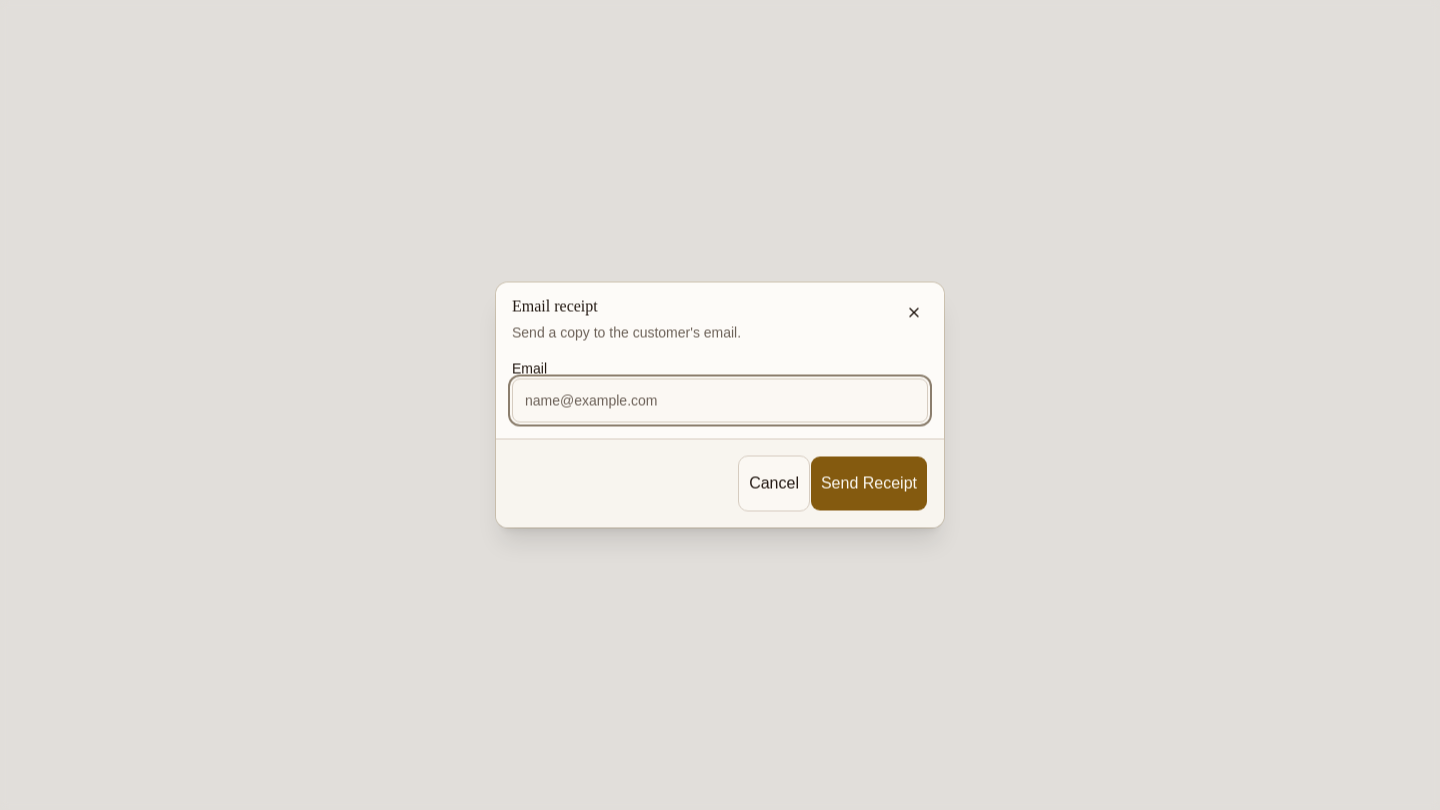
Test case: EmailReceiptDialog › disables inputs while pending
Type "ok@example.com" into the field labelled "Email" at (720, 400), box [512,378,928,422]
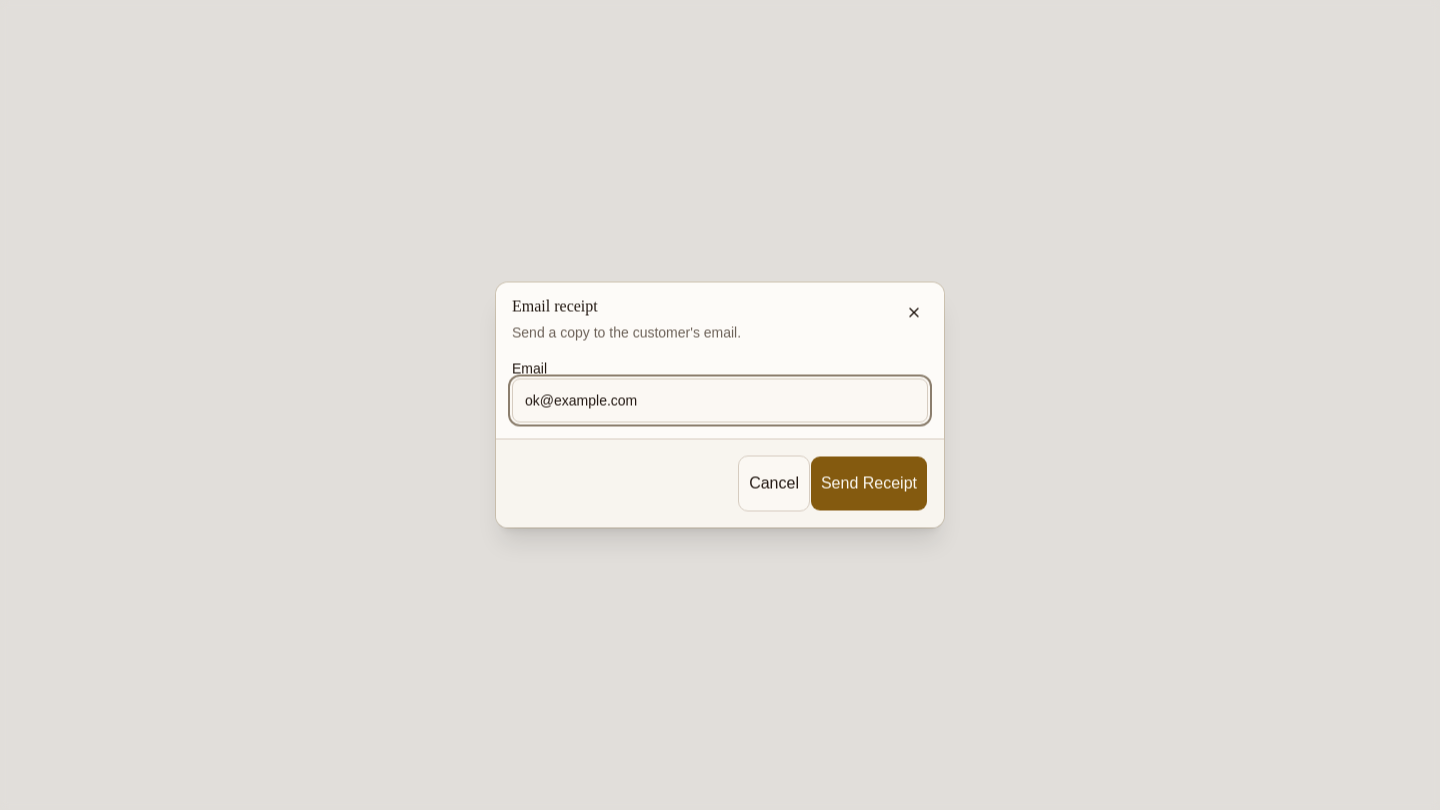
Click the button "Send Receipt" at (869, 484), box [810,456,928,512]
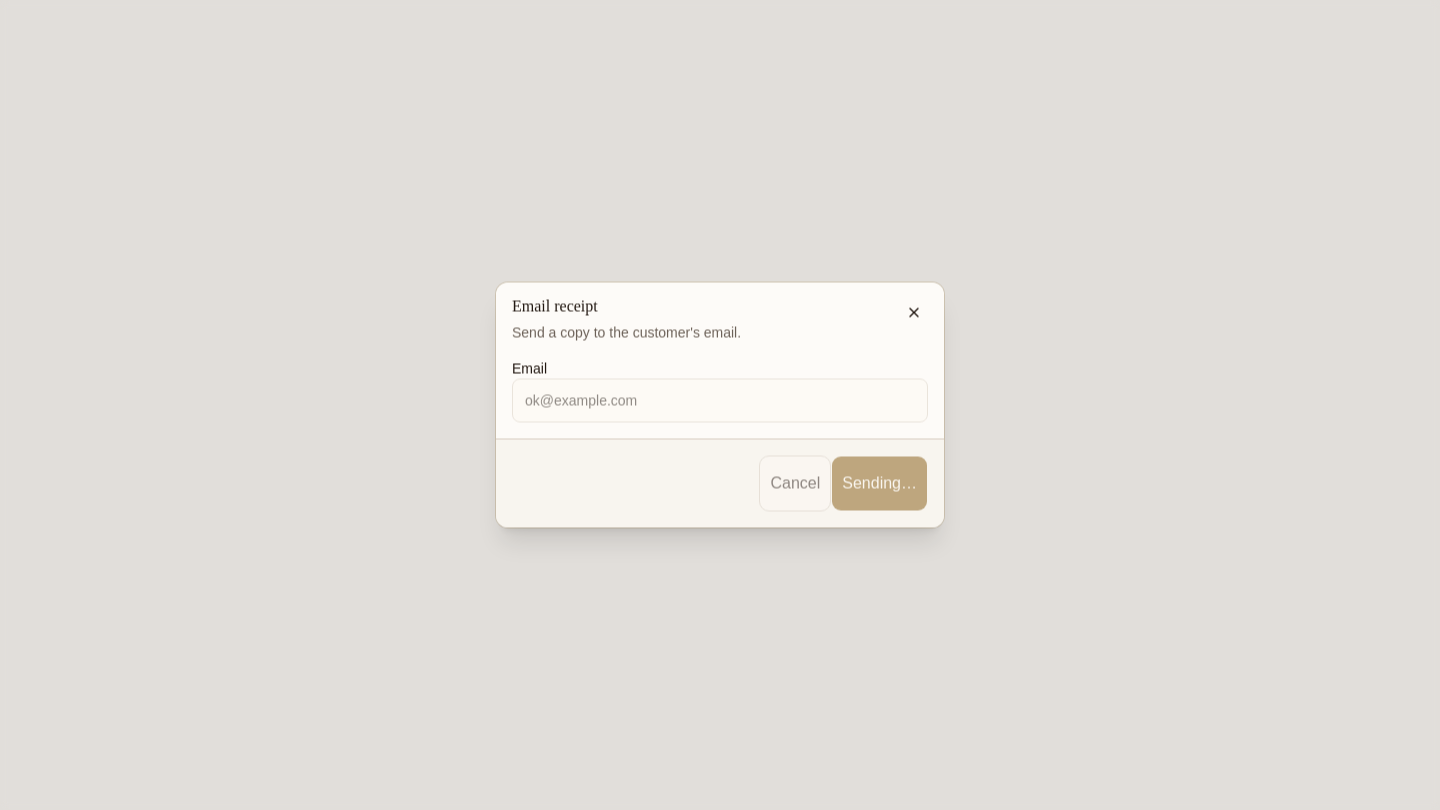
expect the button "Sending…" is shown: met, box [831,456,928,512]
expect the field labelled "Email" is disabled: met, box [512,378,928,422]
